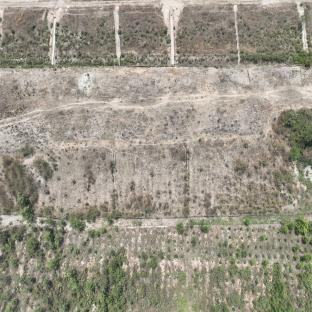slope_drain: (113, 6, 121, 66), (111, 151, 118, 217), (233, 5, 240, 64), (51, 16, 56, 65), (170, 15, 174, 65), (183, 146, 188, 180)
toe_drain: (62, 213, 310, 221)
